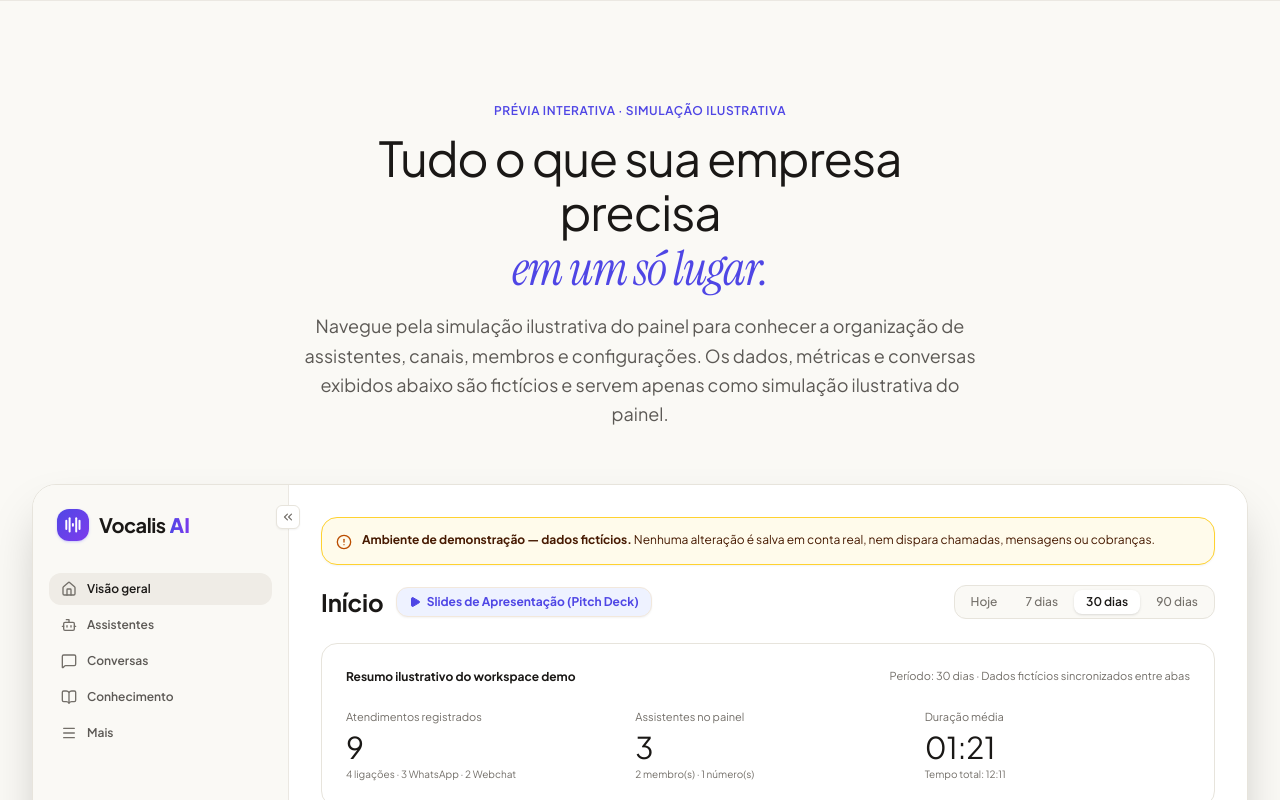
Auditoria de Fluxos, Segurança, Autenticação e Isolamento Demo vs Produção › isola painel demonstrativo de chamadas/envios reais e elimina Roberta e durações inválidas
Later steps or results of the test are not shown.
Expected: the element with test id "demo-mode-banner" shows "Ambiente de demonstração — dados fictícios", [362, 532, 632, 547]
# Navegar para aba Conversas e checar formatação 01:03 no histórico demo
Click the button titled "Conversas": (160, 661) [49, 645, 272, 677]
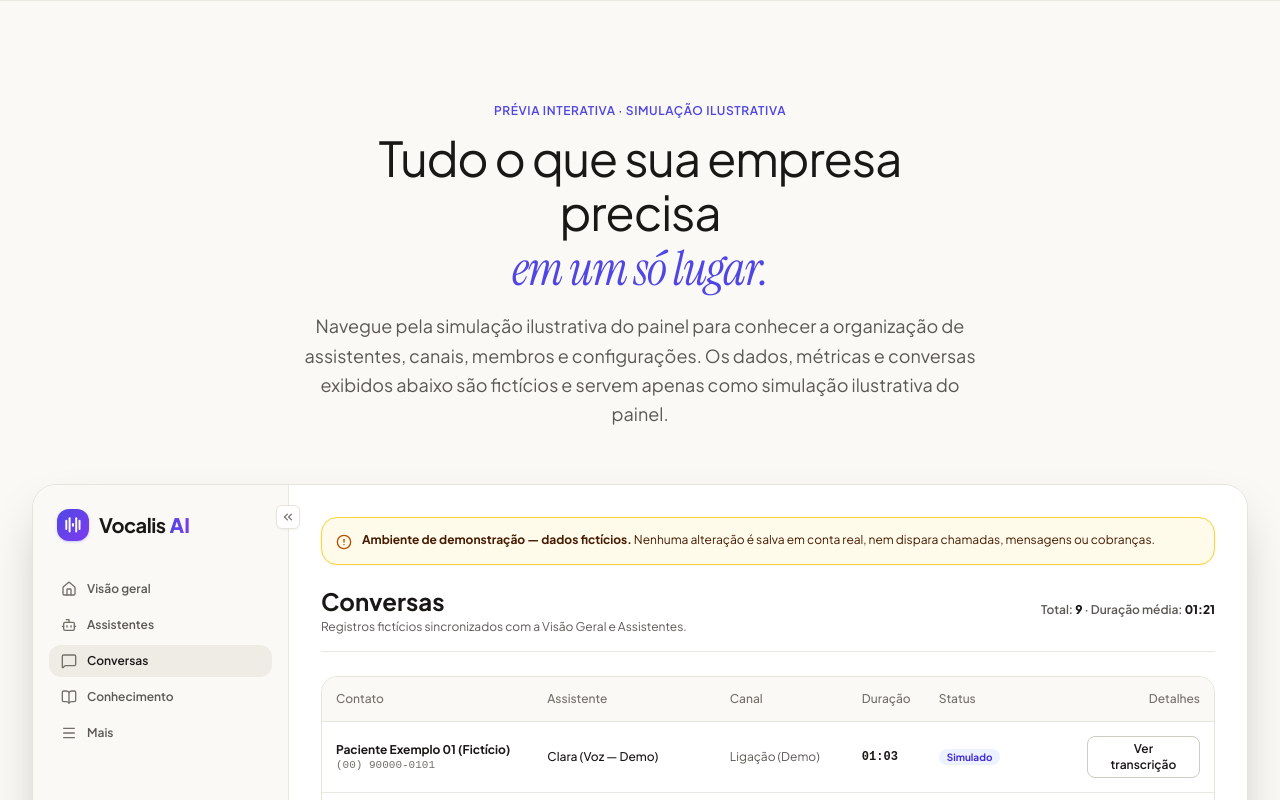
Expected: the text "01:03" is shown, [848, 722, 925, 793]
